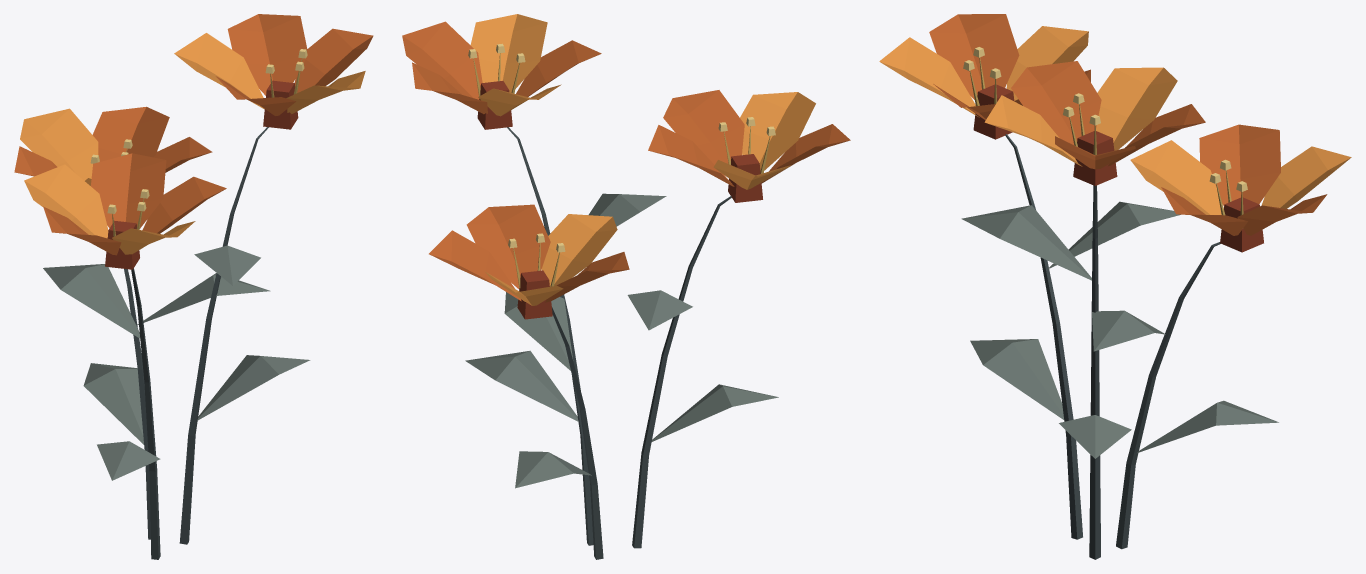
The model's file is EMBER_BLOOM.lo.glb.
3 renders of one model, left to right at view 1: azimuth 30°, elevation 25°; view 2: azimuth 150°, elevation 25°; view 3: azimuth 270°, elevation 25°, orthographic. The views are drawn at different scales.
Visible parts, largest first — view 1: EMBER_BLOOM; view 2: EMBER_BLOOM; view 3: EMBER_BLOOM.
Boxes of the visible parts, box(x1,y1,x2,y2) form: EMBER_BLOOM: box(14, 14, 373, 559); EMBER_BLOOM: box(402, 14, 850, 559); EMBER_BLOOM: box(879, 14, 1351, 559).
Size of the model in its own units: 0.3275 by 0.3809 by 0.3207.
1 material, 1 textured.
